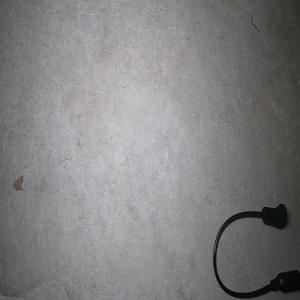Wire: (212, 203, 300, 300)
